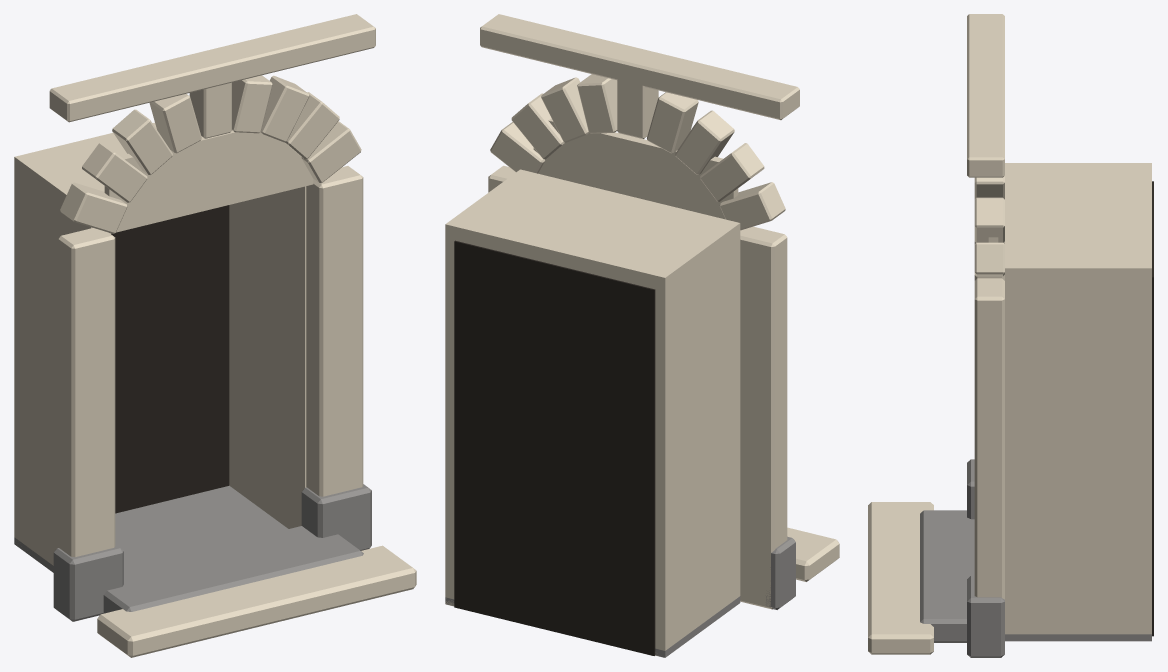
The model's file is kapi_kemerli.glb.
The picture shows the model from 3 angles, left to right: view 1: azimuth 30°, elevation 25°; view 2: azimuth 150°, elevation 25°; view 3: azimuth 270°, elevation 25°; orthographic projection. The views are drawn at different scales.
Visible parts, largest first — view 1: kapi_kemerli; view 2: kapi_kemerli; view 3: kapi_kemerli.
Part boxes in pixels (left/top/right/bottom): kapi_kemerli: left=14, top=14, right=416, bottom=657; kapi_kemerli: left=445, top=14, right=839, bottom=657; kapi_kemerli: left=868, top=14, right=1153, bottom=657.
Size of the model in its own units: 1.82 by 2.94 by 1.51.
